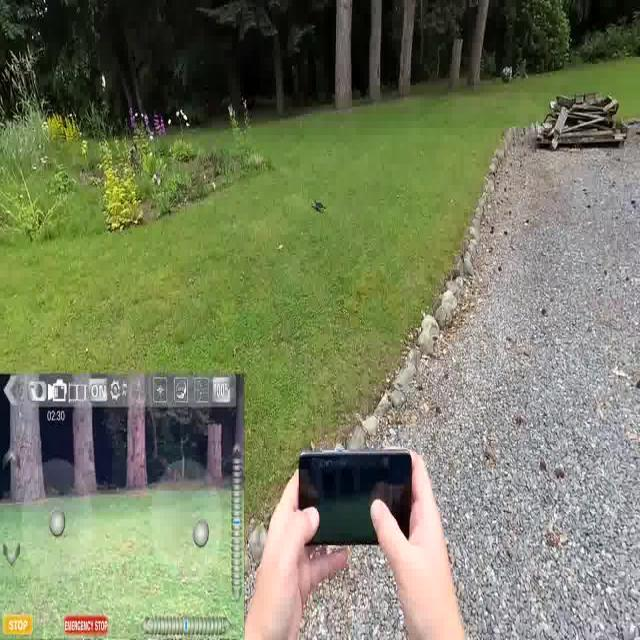drones: (308, 192, 330, 220)
